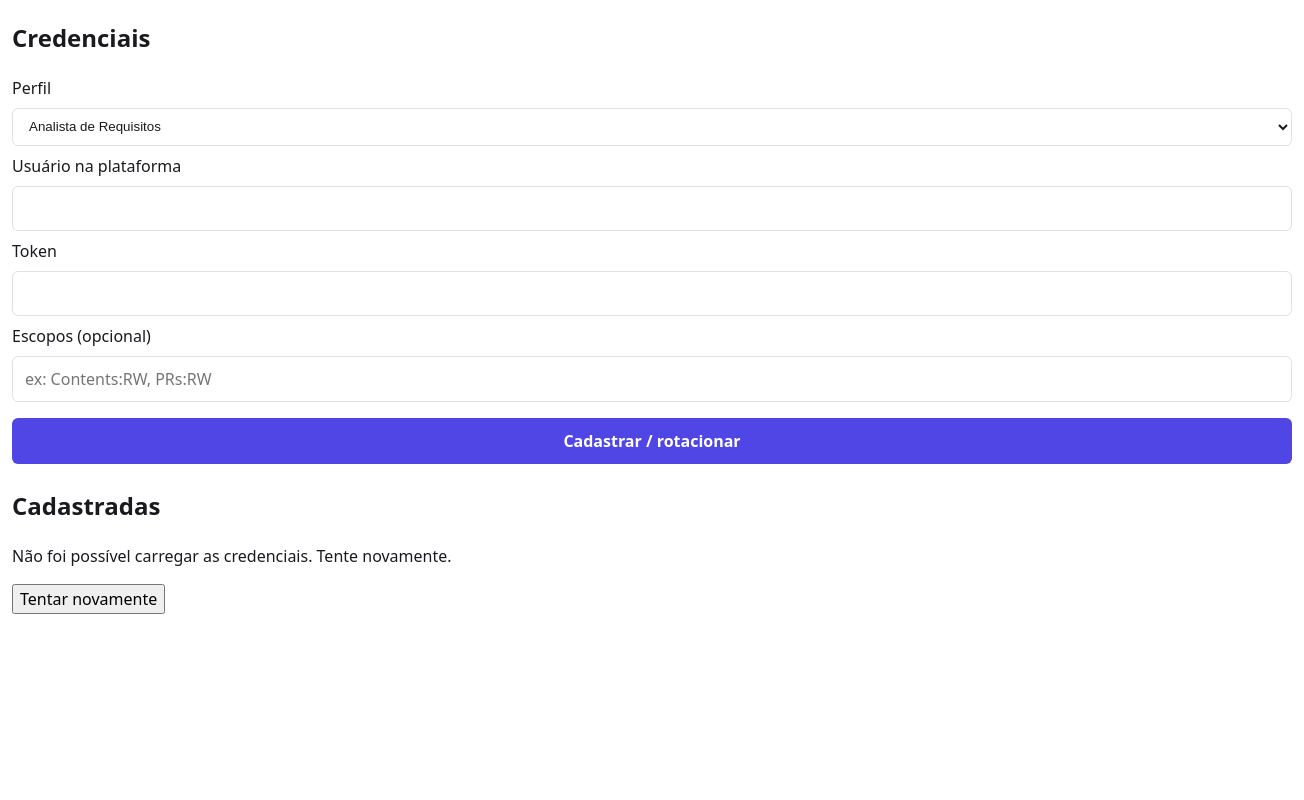
it: CredentialsPage › shows a retryable error when the list fails to load
Expected: the text "Não foi possível carregar as credenciais. Tente novamente." is shown, [12, 545, 452, 567]
What coordinates should you click on to do the following:
click the button "Tentar novamente"
I would click on:
 (89, 599)
Its box is [12, 584, 165, 614].
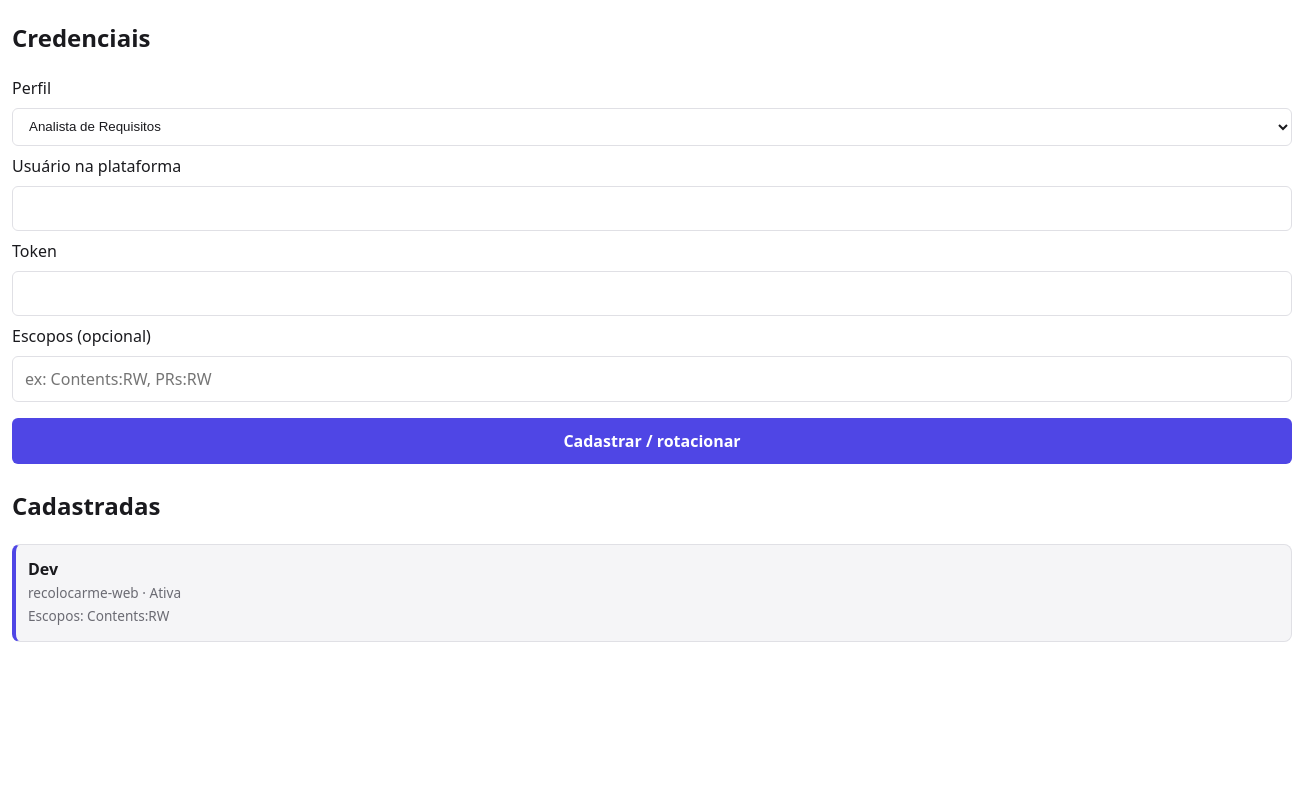
Expected: the text "recolocarme-web · Ativa" is shown, [28, 583, 181, 602]
